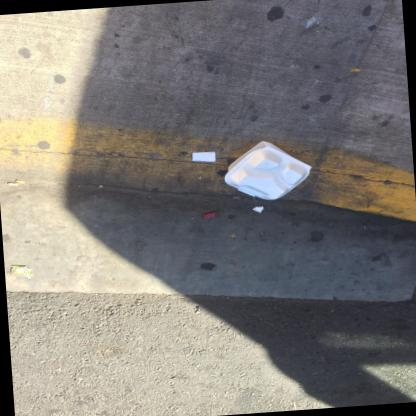Paper: (14, 179, 25, 183), (7, 182, 18, 185)
Plastic: (287, 8, 327, 27), (202, 211, 217, 218)
Waste: (223, 140, 311, 199), (191, 151, 215, 161), (251, 205, 263, 212)
